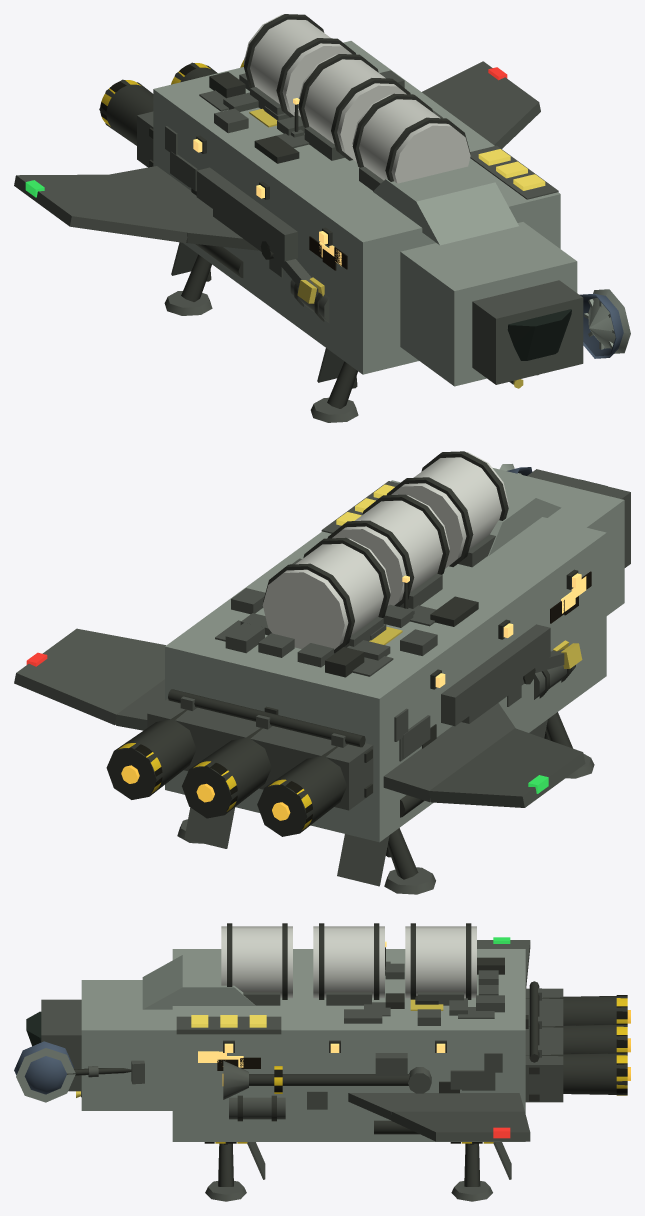
The model's file is tender-m(1).glb.
3 renders of one model, top to bottom at view 1: azimuth 30°, elevation 25°; view 2: azimuth 150°, elevation 25°; view 3: azimuth 270°, elevation 25°, orthographic. The views are drawn at different scales.
Parts seen in each view (by area): view 1: hullMain, hullNose, hullNoseTip, canopyFairing, wingOuterLeft, bowserTank0, wingOuterRight, bowserTank1, bowserTank2, wingInnerLeft, repairGantry, cockpitGlass (+21 smaller); view 2: hullMain, engineHousing (×3), wingOuterRight, bowserTank2, engineBayExtension, wingOuterLeft, bowserTank0, bowserTank1, hullNose, wingInnerLeft, repairGantry, gearBayDoor (×2) (+21 smaller); view 3: hullMain, hullNose, engineHousing (×3), bowserTank1, canopyFairing, bowserTank2, bowserTank0, wingOuterRight, engineBayExtension, wingInnerRight, hullNoseTip, refuelBoom (+27 smaller).
Boxes of the visible parts, x1,y1,x2,y2 form: hullMain: [153, 41, 560, 374]; hullNose: [400, 222, 577, 386]; hullNoseTip: [472, 280, 583, 384]; canopyFairing: [373, 163, 518, 245]; wingOuterLeft: [14, 174, 187, 243]; bowserTank0: [352, 94, 470, 183]; wingOuterRight: [422, 61, 540, 148]; bowserTank1: [298, 54, 406, 161]; bowserTank2: [243, 14, 351, 116]; wingInnerLeft: [109, 166, 258, 250]; repairGantry: [196, 167, 297, 261]; cockpitGlass: [507, 309, 571, 360]; hullMain: [165, 480, 606, 842]; engineHousing (×3): [106, 709, 346, 836]; wingOuterRight: [14, 628, 165, 725]; bowserTank2: [262, 538, 390, 649]; engineBayExtension: [147, 698, 373, 810]; wingOuterLeft: [429, 728, 585, 807]; bowserTank0: [391, 452, 508, 568]; bowserTank1: [332, 495, 449, 605]; hullNose: [492, 467, 624, 615]; wingInnerLeft: [383, 703, 515, 802]; repairGantry: [441, 624, 550, 726]; gearBayDoor (×2): [184, 807, 389, 886]; hullMain: [172, 949, 525, 1141]; hullNose: [81, 980, 172, 1110]; engineHousing (×3): [526, 996, 627, 1095]; bowserTank1: [313, 926, 384, 998]; canopyFairing: [142, 955, 255, 1009]; bowserTank2: [405, 926, 476, 998]; bowserTank0: [221, 926, 292, 998]; wingOuterRight: [391, 1111, 530, 1141]; engineBayExtension: [525, 988, 563, 1102]; wingInnerRight: [348, 1093, 524, 1119]; hullNoseTip: [41, 999, 81, 1091]; refuelBoom: [249, 1074, 409, 1085].
Bounding box in the file's own units: 4.29 × 2.34 × 5.76.
